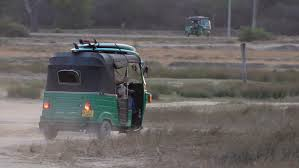tuk tuk: (36, 37, 153, 143)
